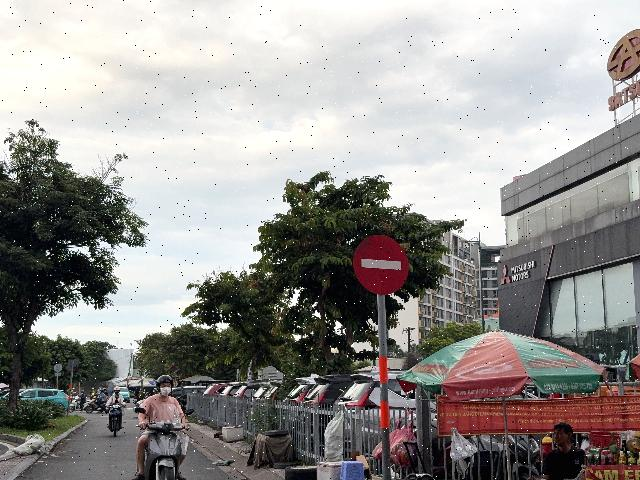cam-di-nguoc-chieu: (352, 236, 408, 294)
